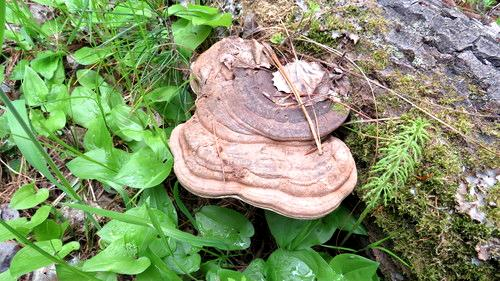Ganoderma - Fruit Body: (170, 33, 357, 219)
